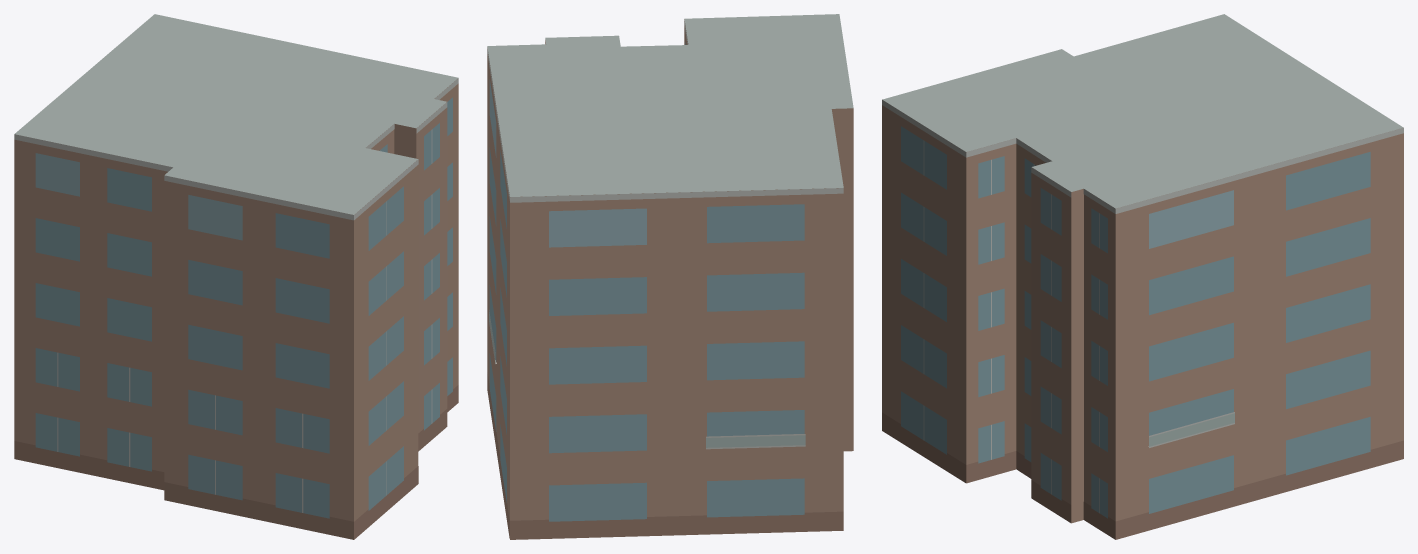
Rendered from survey-upis-32669643.glb.
The picture shows the model from 3 angles, left to right: view 1: azimuth 30°, elevation 25°; view 2: azimuth 150°, elevation 25°; view 3: azimuth 270°, elevation 25°; orthographic projection. The views are drawn at different scales.
Visible parts, largest first — view 1: survey-upis-32669643.tmp; view 2: survey-upis-32669643.tmp; view 3: survey-upis-32669643.tmp.
Boxes of the visible parts, left/top/right/bottom form: survey-upis-32669643.tmp: left=14, top=14, right=458, bottom=539; survey-upis-32669643.tmp: left=487, top=14, right=853, bottom=539; survey-upis-32669643.tmp: left=882, top=14, right=1403, bottom=539.
Size of the model in its own units: 18.4 by 14.6 by 20.85.
